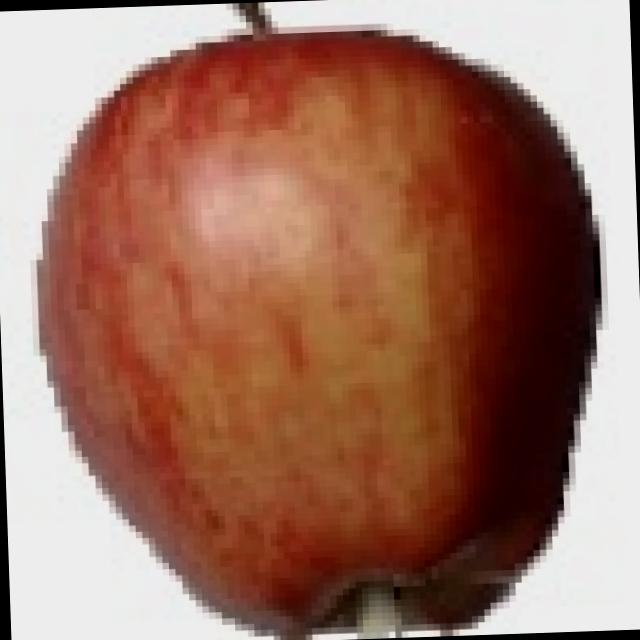apple: (10, 12, 626, 640)
